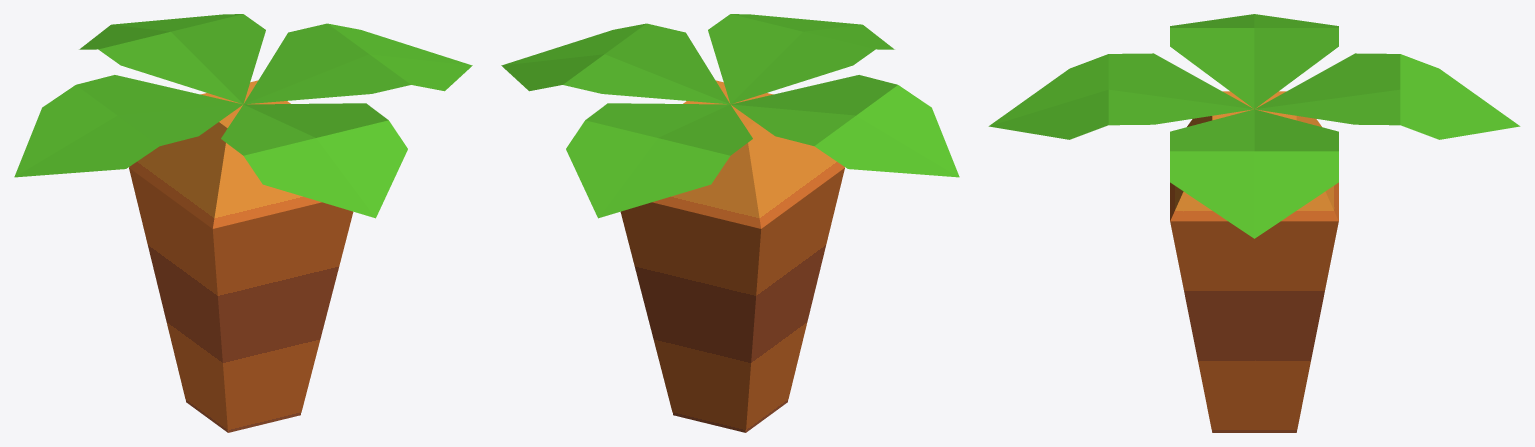
Rendered from Carrot_001-4.fbx.
3 views of the same model, side by side, from view 1: azimuth 30°, elevation 25°; view 2: azimuth 150°, elevation 25°; view 3: azimuth 270°, elevation 25° (orthographic).
Parts seen in each view (by area): view 1: Carrot_001-4; view 2: Carrot_001-4; view 3: Carrot_001-4.
Part boxes in pixels (x1=…): Carrot_001-4: x1=14, y1=14, x2=472, y2=432; Carrot_001-4: x1=501, y1=14, x2=959, y2=432; Carrot_001-4: x1=988, y1=14, x2=1520, y2=432.
Bounding box in the file's own units: 39.43 × 26.65 × 39.43.
1 material, 1 textured.
